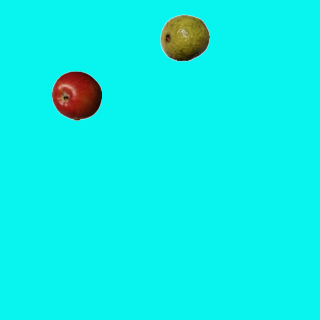Apple Braeburn: (51, 70, 101, 120)
Guava: (159, 12, 209, 62)
